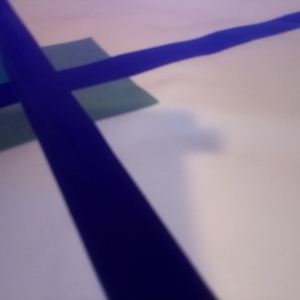bottom_left: (1, 86, 71, 151)
bottom_right: (27, 72, 158, 120)
top_right: (10, 38, 110, 83)
